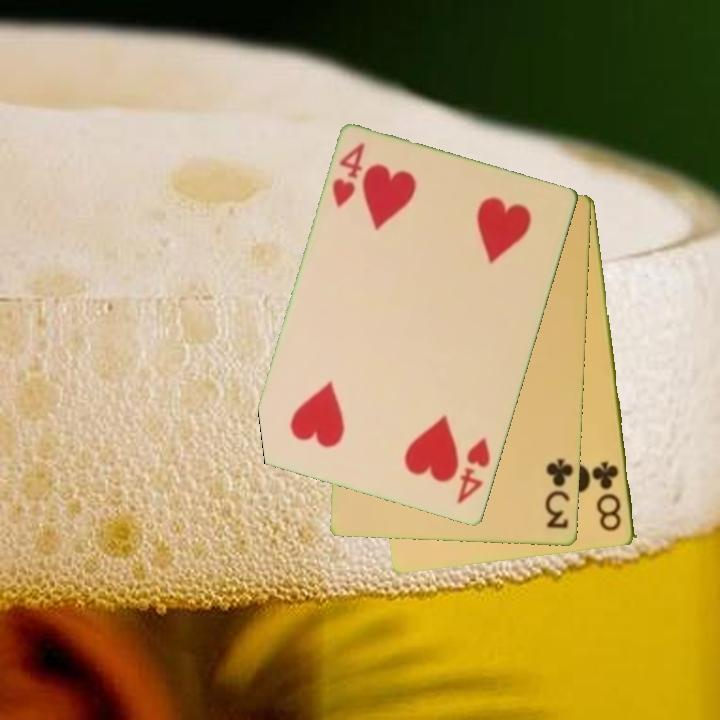3c: (542, 455, 577, 532)
4h: (454, 434, 494, 507), (329, 139, 368, 211)
8c: (590, 458, 625, 535)
